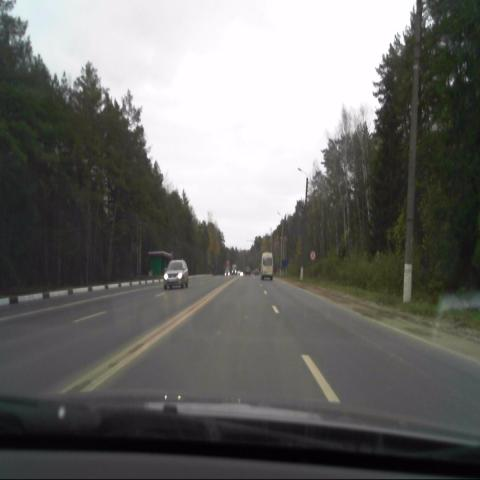3_19: (309, 251, 316, 262)
